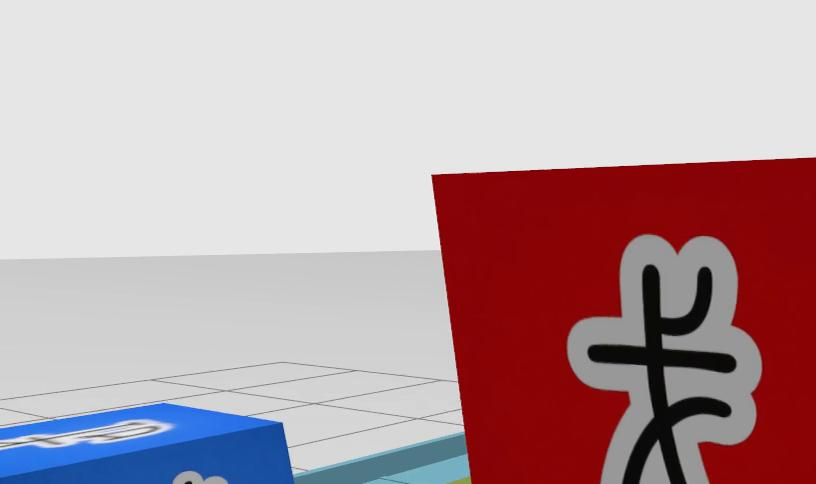KFS_FAKE: (430, 157, 816, 484), (568, 236, 761, 484)
KFS_REAL: (0, 403, 295, 484), (0, 418, 172, 449), (174, 471, 228, 484)
